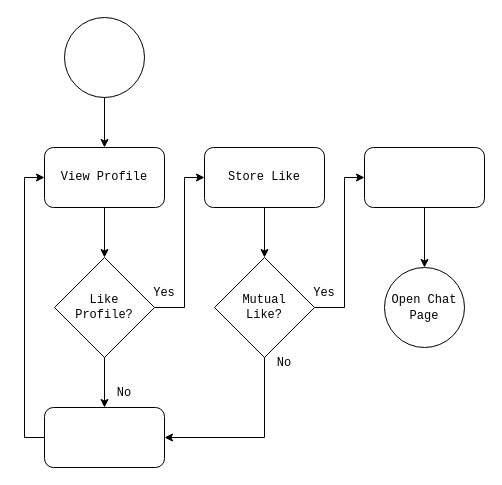
This 502x485 diagram has some shape labels left out. The centre of each missing label's shape, as x and y in pixels:
"Notify User of the Mutual Like" goes at (424,177).
"Open Explore Page" goes at (104,57).
"Shown New Profile" goes at (104,437).
